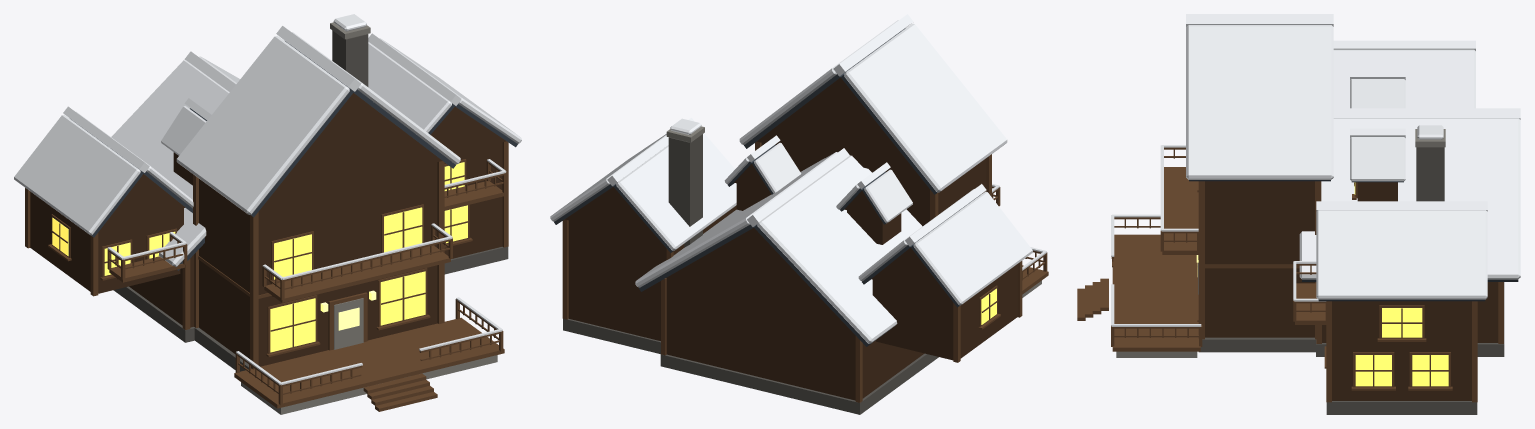
The model's file is lodge-tier-2-adirondack.glb.
3 renders of one model, left to right at view 1: azimuth 30°, elevation 25°; view 2: azimuth 150°, elevation 25°; view 3: azimuth 270°, elevation 25°, orthographic. The views are drawn at different scales.
Visible parts, largest first — view 1: lodge-tier-2-adirondack; view 2: lodge-tier-2-adirondack; view 3: lodge-tier-2-adirondack.
Part boxes in pixels (bbox=[...]): lodge-tier-2-adirondack: bbox=[14, 14, 521, 414]; lodge-tier-2-adirondack: bbox=[550, 14, 1048, 414]; lodge-tier-2-adirondack: bbox=[1077, 14, 1520, 414].
Size of the model in its own units: 25.07 by 15.95 by 21.91.
